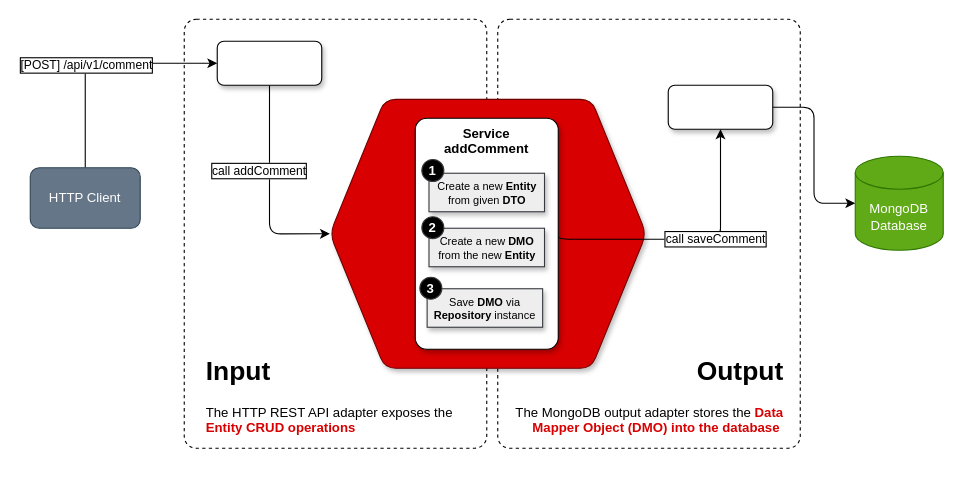
Image size: 963x479. Some labels were removed from this diagram. Here are the shapes that lost their labels. From the top down, the centre of each, then its label:
At point (270, 64): "HTTP REST".
At point (721, 108): "MongoDB".
